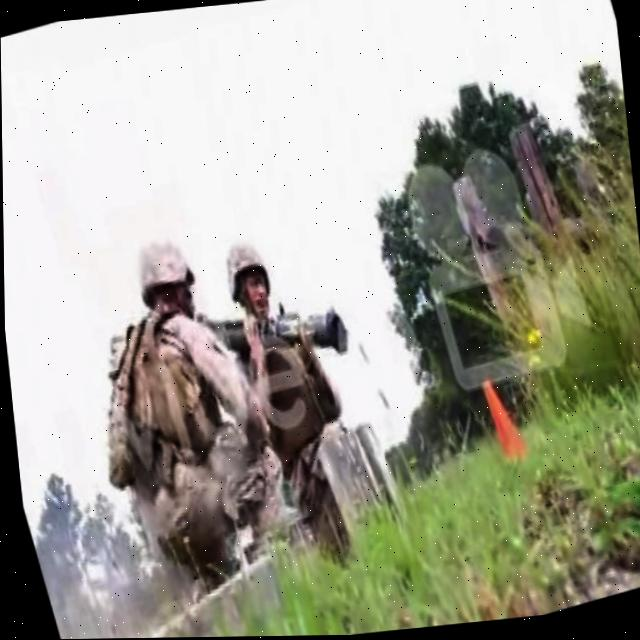rocket: (194, 275, 352, 389)
